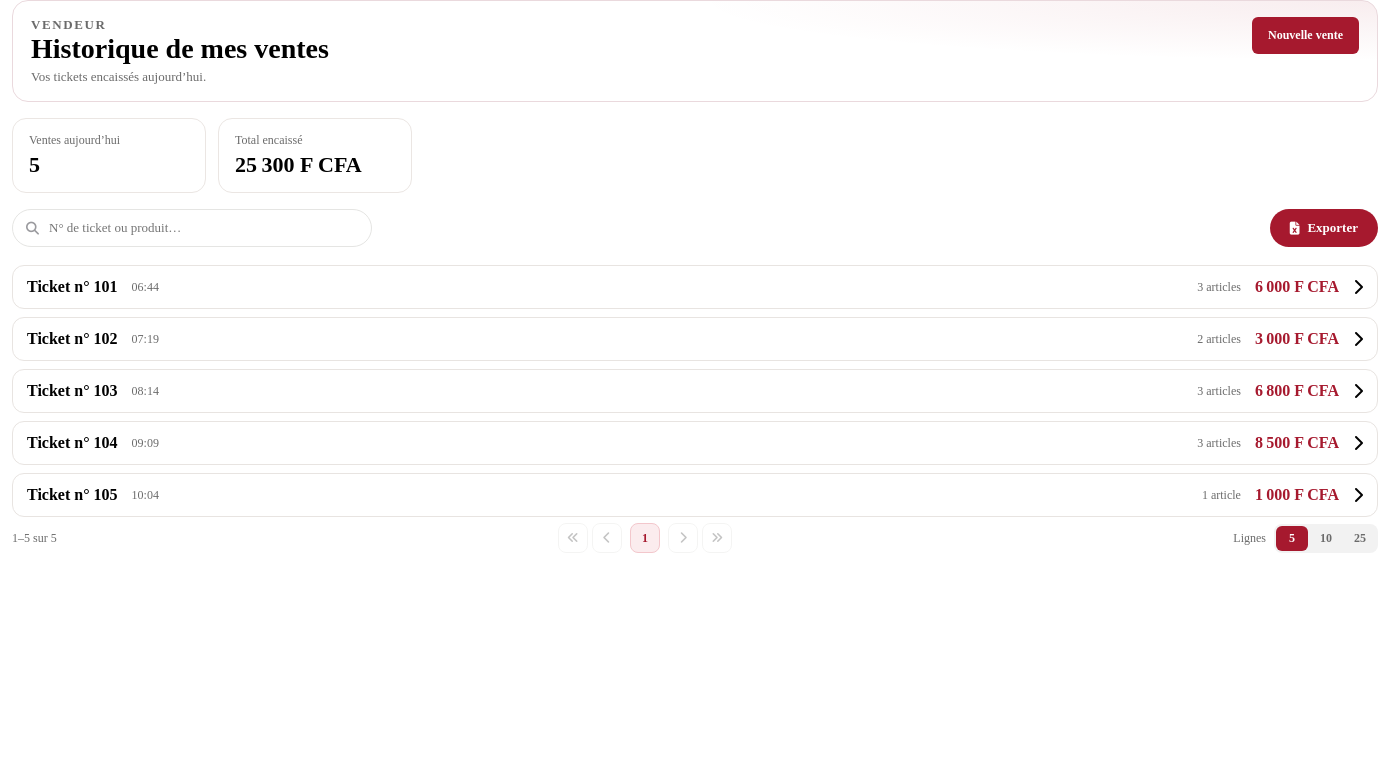
Historique des ventes (Vendeur) › filters by ticket number, offering a reset when nothing matches
Type "102" into the search field named "Rechercher une vente" at (192, 228), box [12,209,372,247]
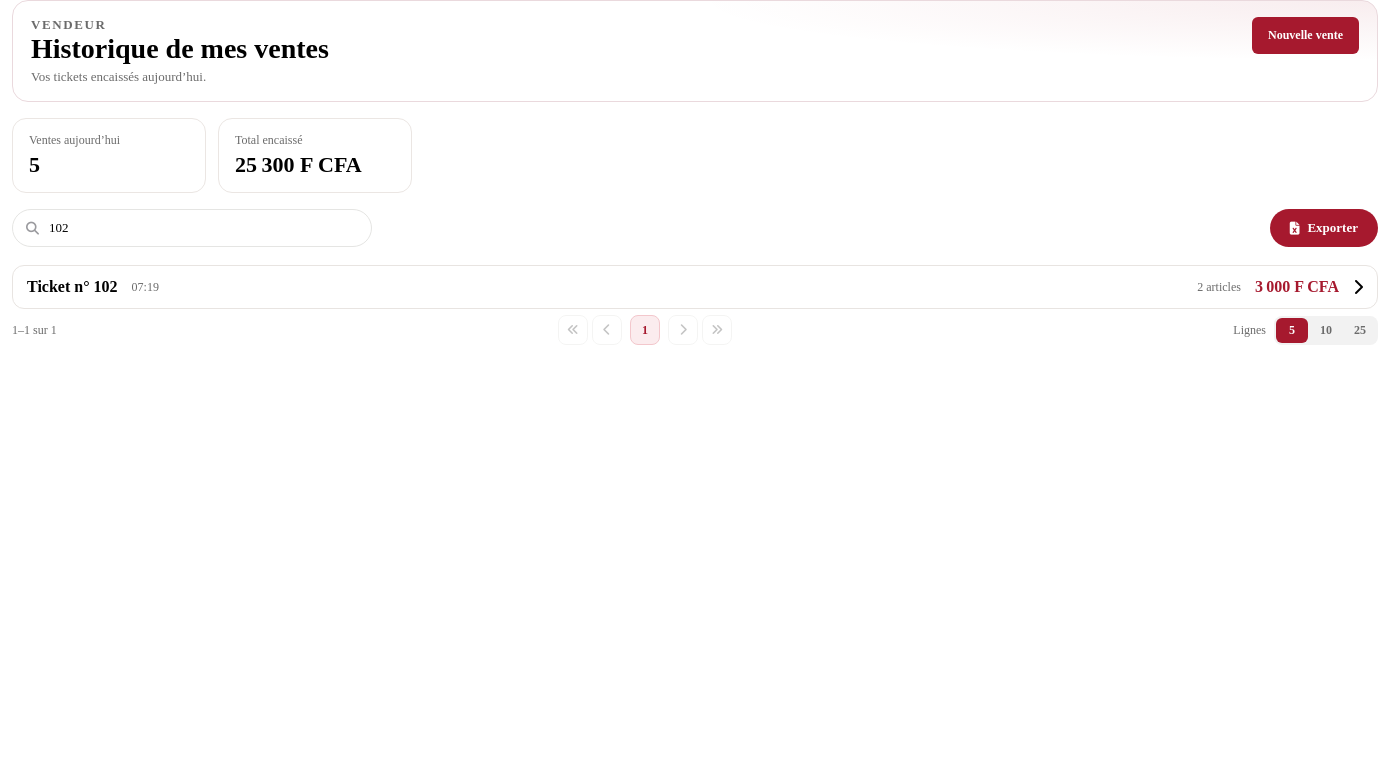
Check: the text "Ticket n° 102" is shown, box [27,278,118,296]
Check: the number of list items is 1, box [12,265,1378,309]
Replace the text in the search field named "Rechercher une vente" with "aucune-correspondance" at (192, 228), box [12,209,372,247]
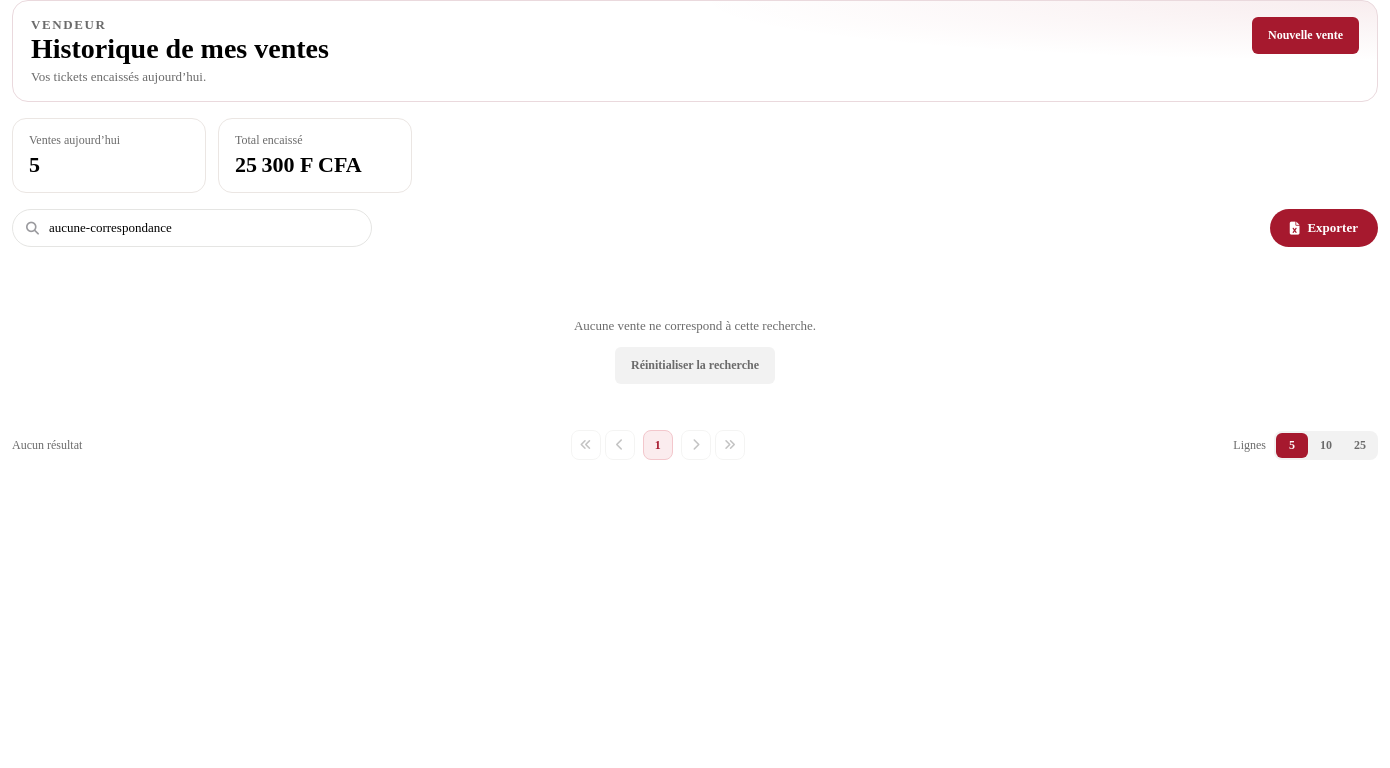
Check: the text "Aucune vente ne correspond à cette recherche." is shown, box [574,318,816,333]
Click the button "Réinitialiser la recherche" at (695, 366), box [615,347,775,384]
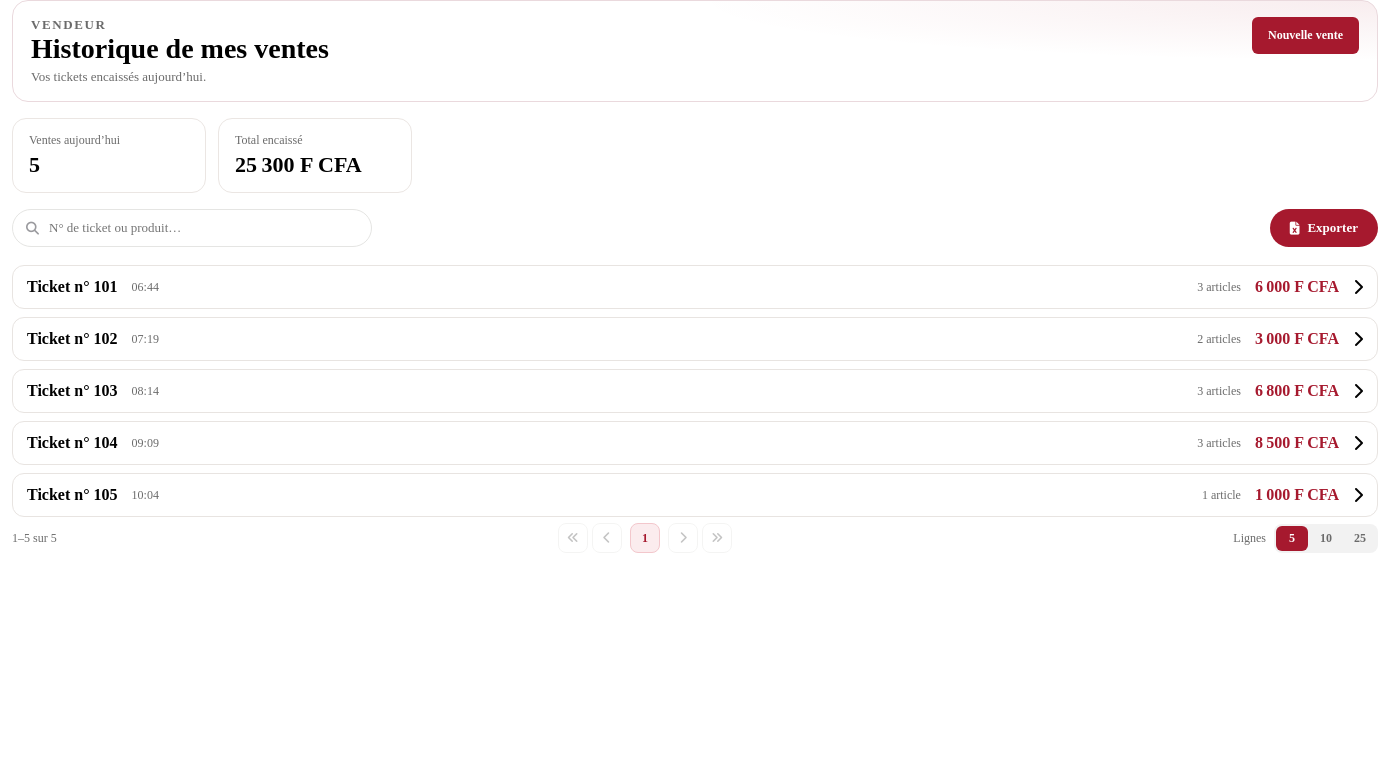
Check: the text "Aucune vente ne correspond à cette recherche." is gone
